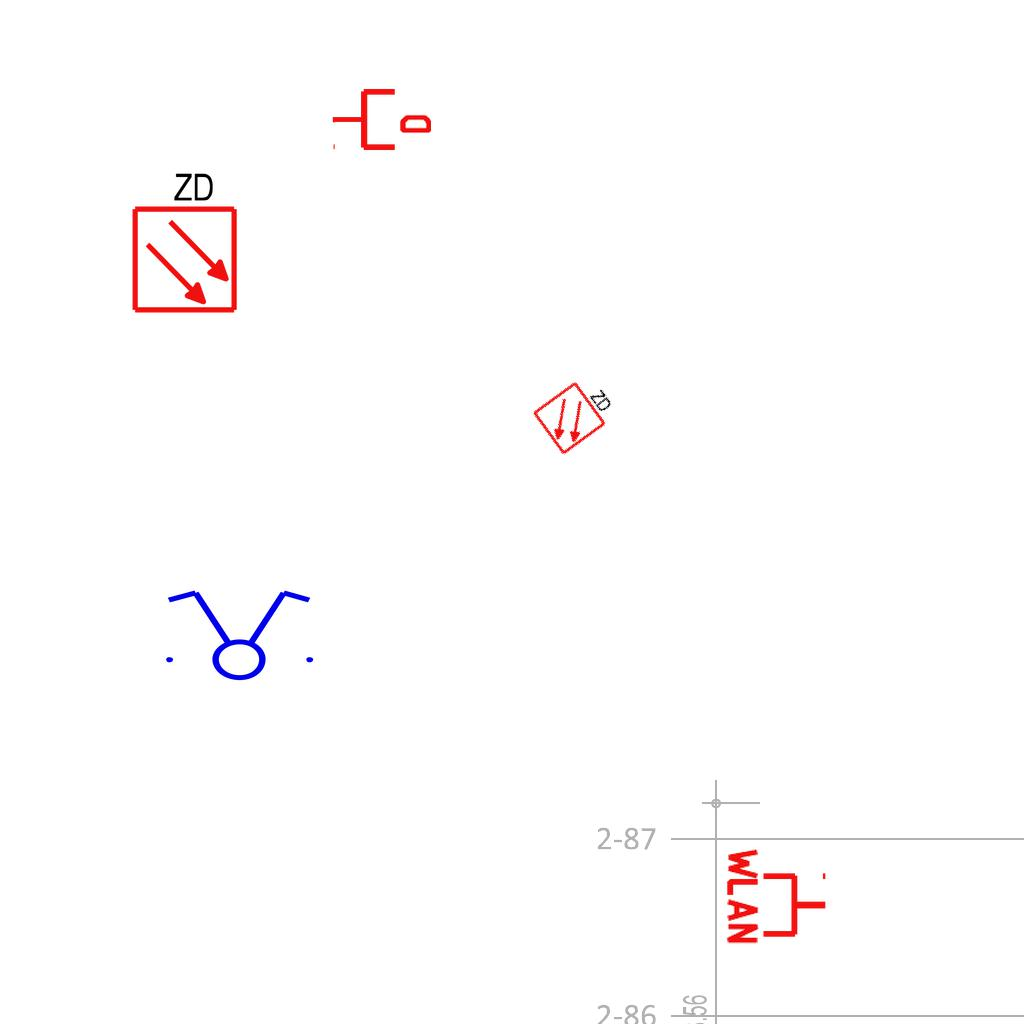Datenanschluss_einfach: (331, 85, 431, 154)
Serienschalter: (154, 586, 322, 682)
WLAN: (725, 844, 830, 948)
ZD_Melder_in_Zwischendecke_mit_Revisionsoeffnung_mind_40_x_40_cm: (126, 166, 240, 315), (529, 367, 624, 457)
